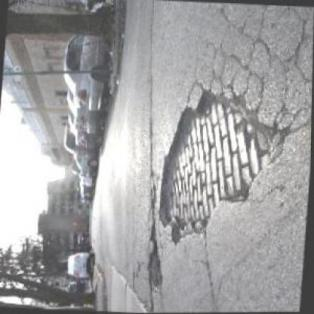Hueco: (153, 80, 294, 248), (146, 243, 166, 292)
